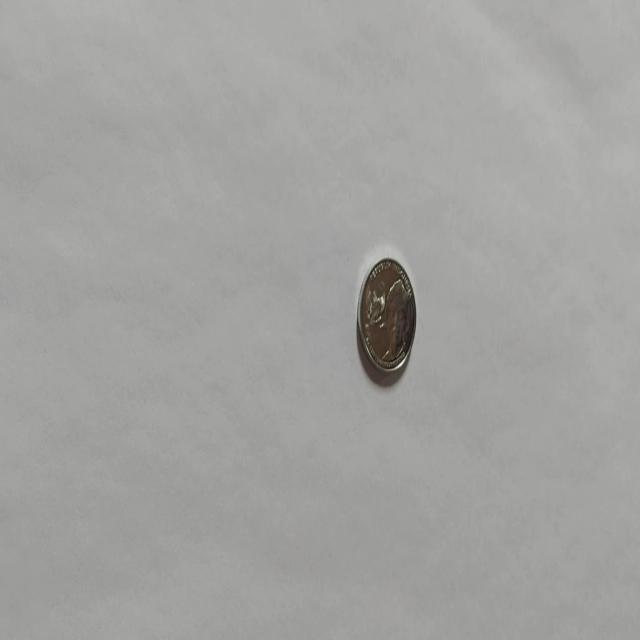dua ratus rupiah: (356, 255, 416, 375)
